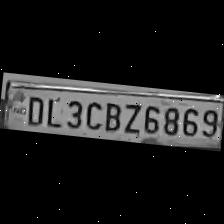3: (63, 94, 85, 130)
6: (178, 102, 201, 138), (138, 100, 160, 136)
8: (158, 103, 181, 137)
9: (198, 104, 221, 140)
B: (100, 99, 122, 134)
C: (81, 97, 104, 131)
D: (22, 93, 46, 127)
L: (44, 92, 64, 128)
Z: (119, 99, 142, 135)
